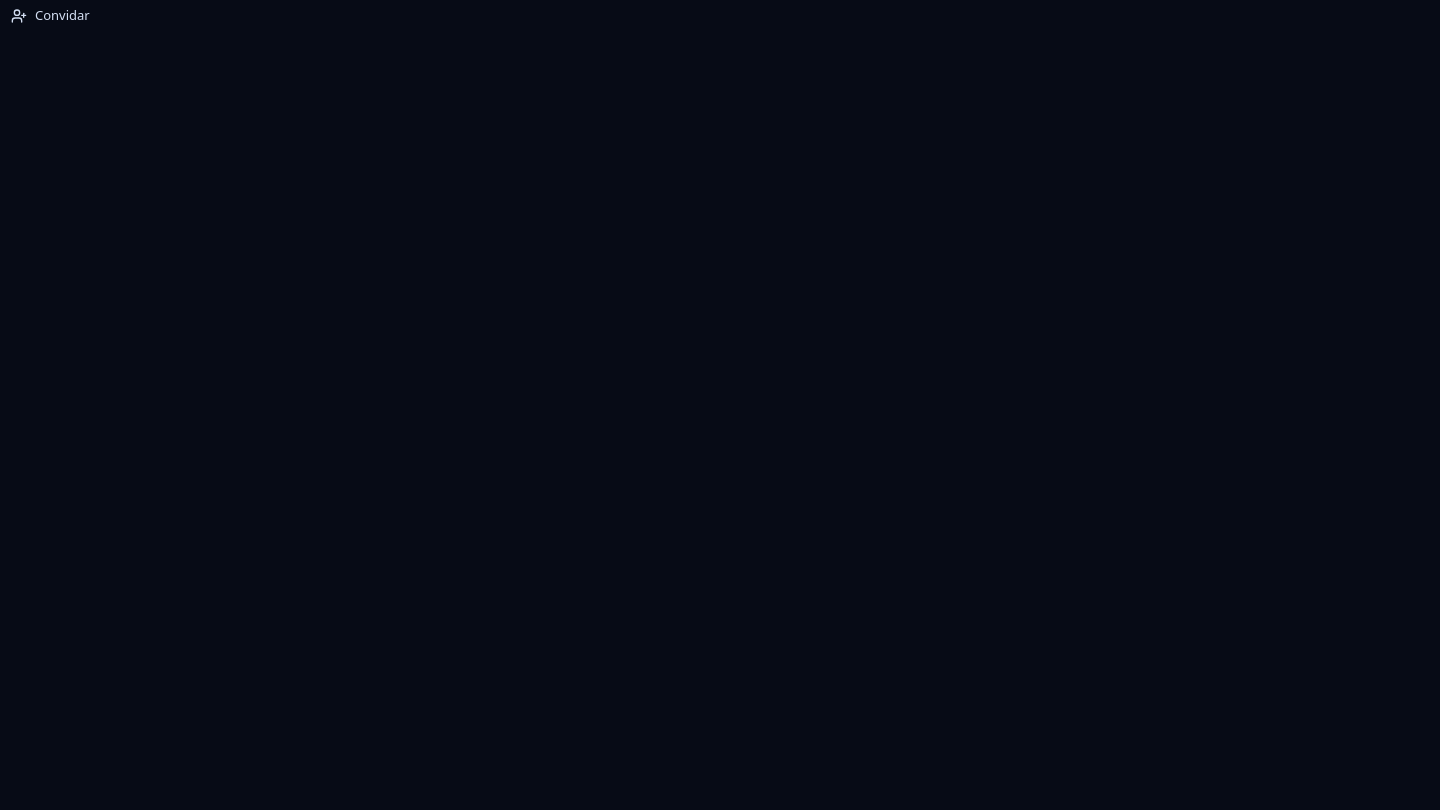
QuickInvite › cria um convite para o grupo na primeira vez e mostra o mesmo depois
Click the button "Convidar".
click(50, 16)  # box [0,0,101,32]
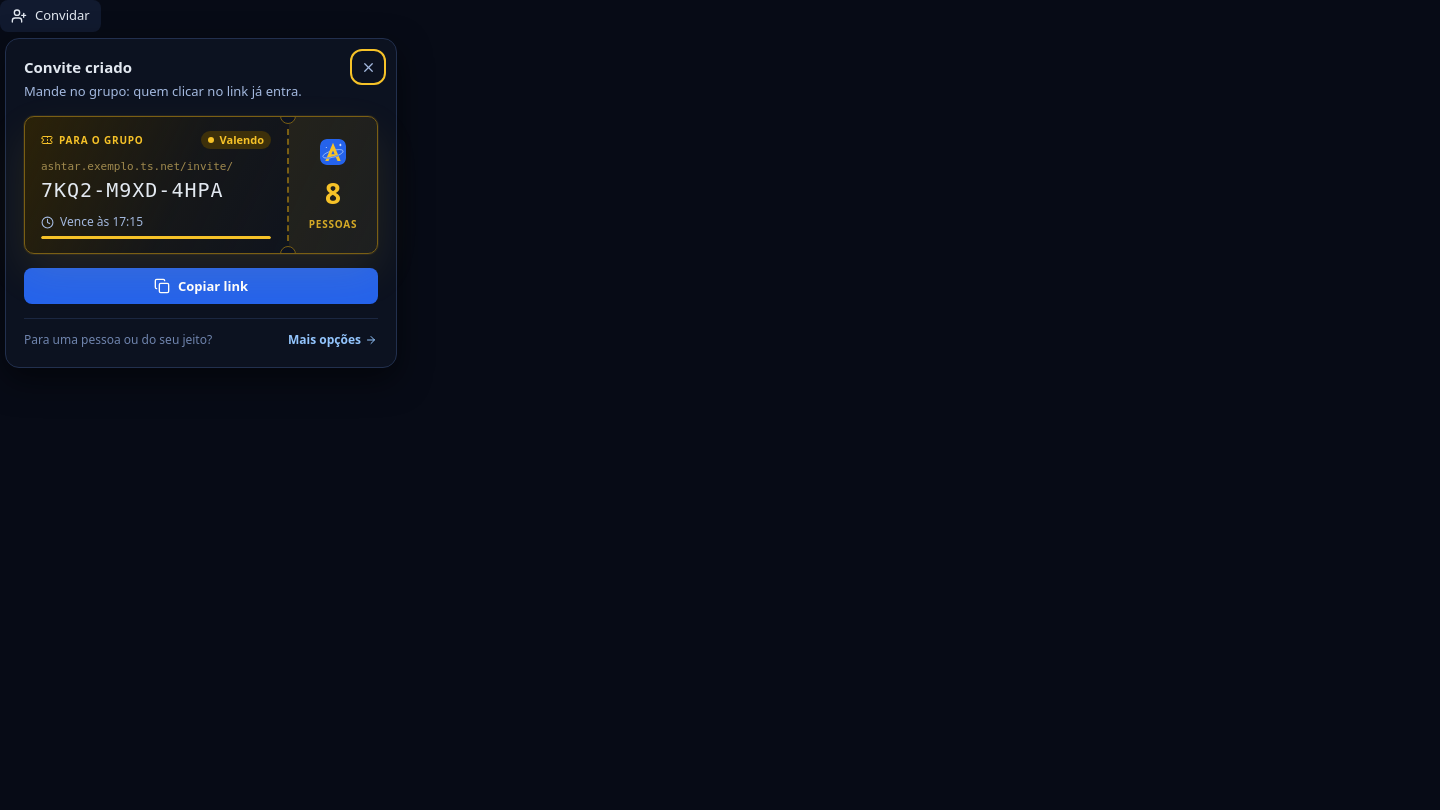
Expected: the text "7KQ2-M9XD-4HPA" is shown, [41,178,224,202]
Click the button named "Fechar".
click(368, 67)  # box [354,53,382,81]
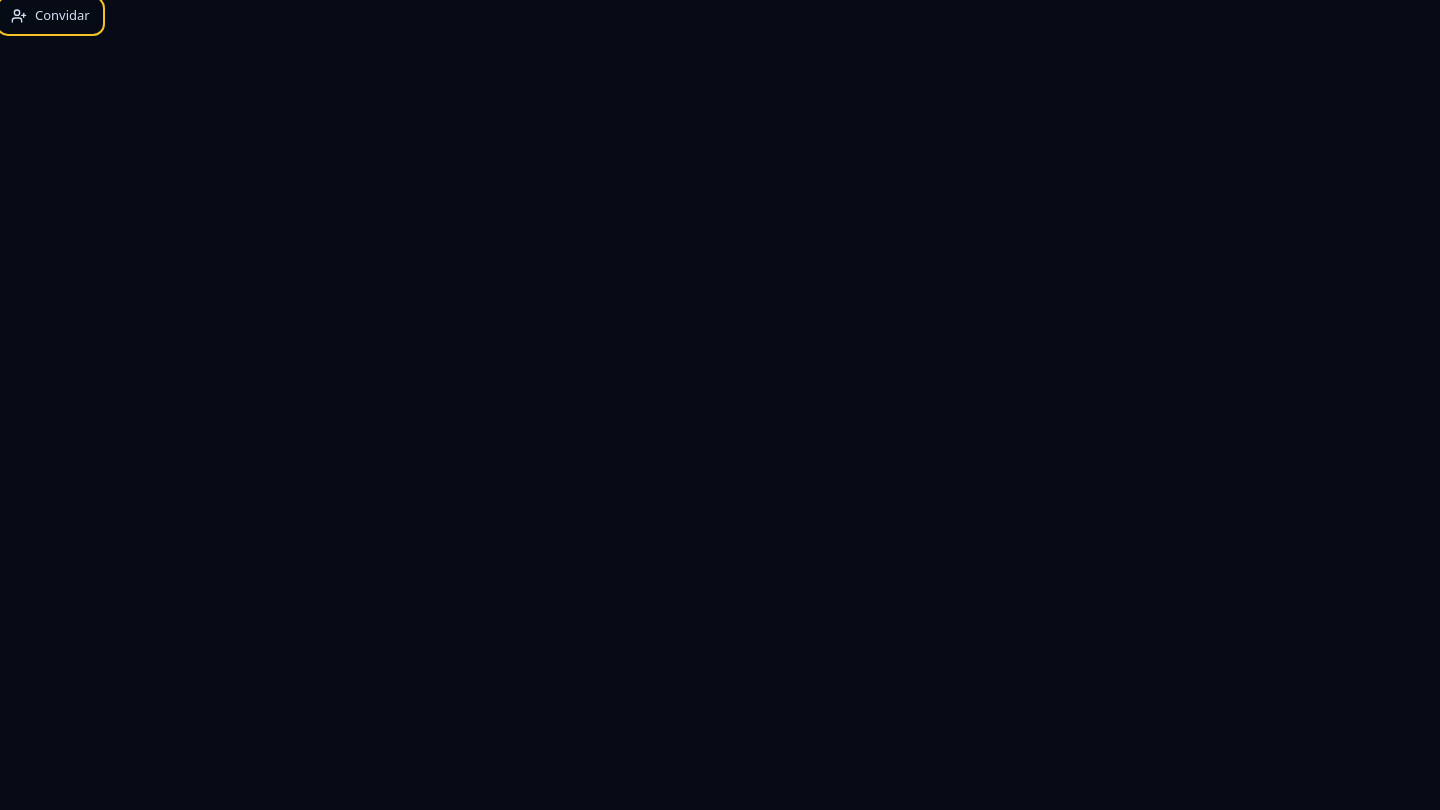
Click the button "Convidar".
click(50, 16)  # box [0,0,101,32]
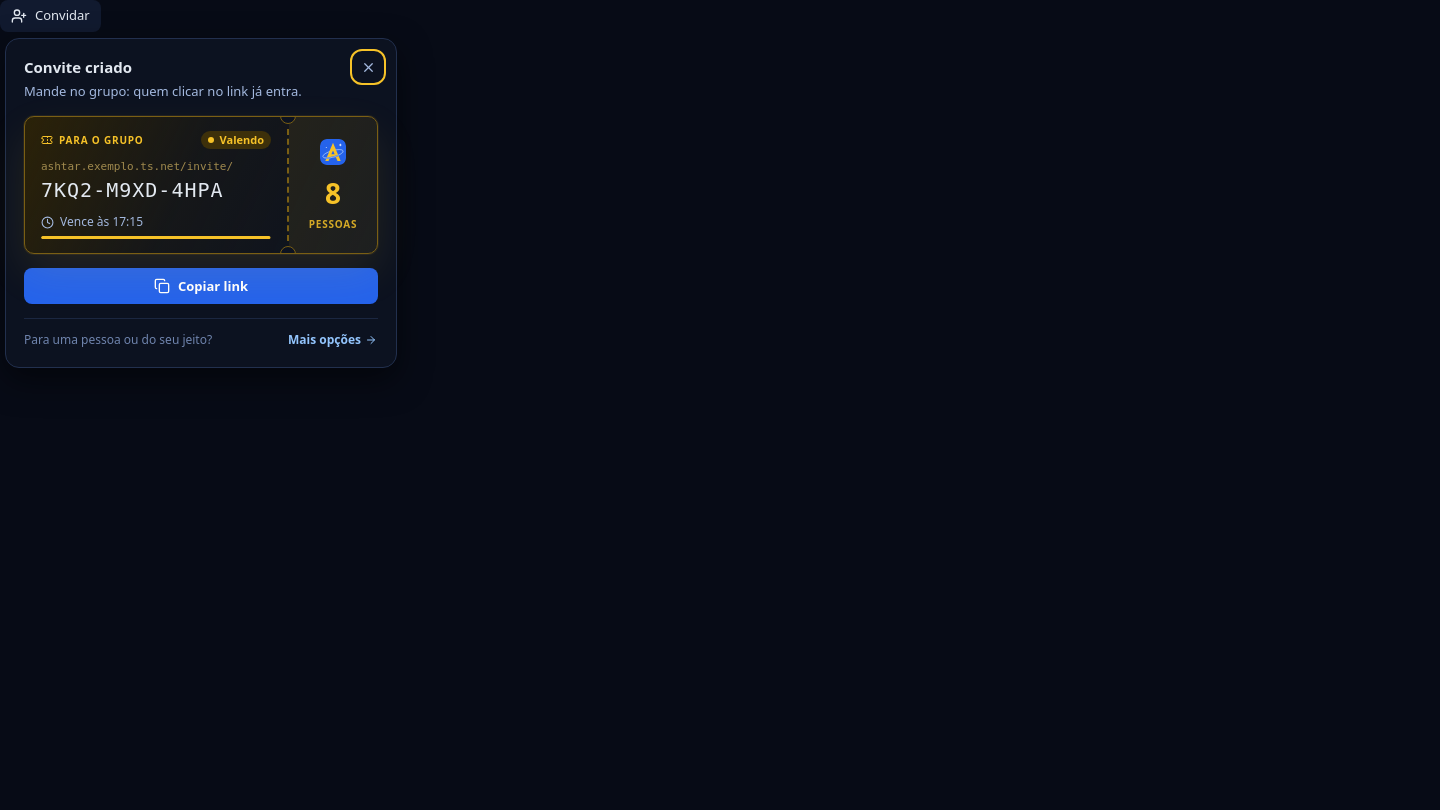
Expected: the text "7KQ2-M9XD-4HPA" is shown, [41,178,224,202]
